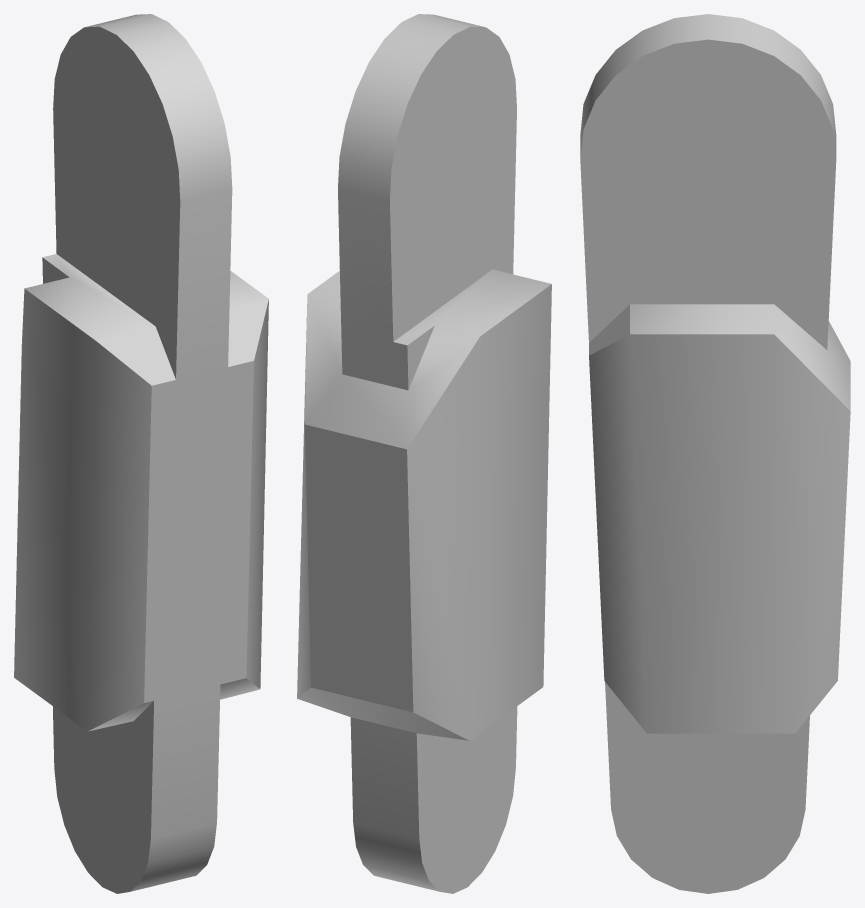
Rendered from secondFingerLink.obj.
3 views of the same model, side by side, from view 1: azimuth 30°, elevation 25°; view 2: azimuth 150°, elevation 25°; view 3: azimuth 270°, elevation 25° (orthographic).
Parts seen in each view (by area): view 1: secondFingerLink; view 2: secondFingerLink; view 3: secondFingerLink.
Boxes of the visible parts, x1,y1,x2,y2 form: secondFingerLink: (14,14,268,893); secondFingerLink: (297,14,551,893); secondFingerLink: (580,14,850,893).
Size of the model in its own units: 0.0196 by 0.092 by 0.0264.
1 material, 1 textured.
